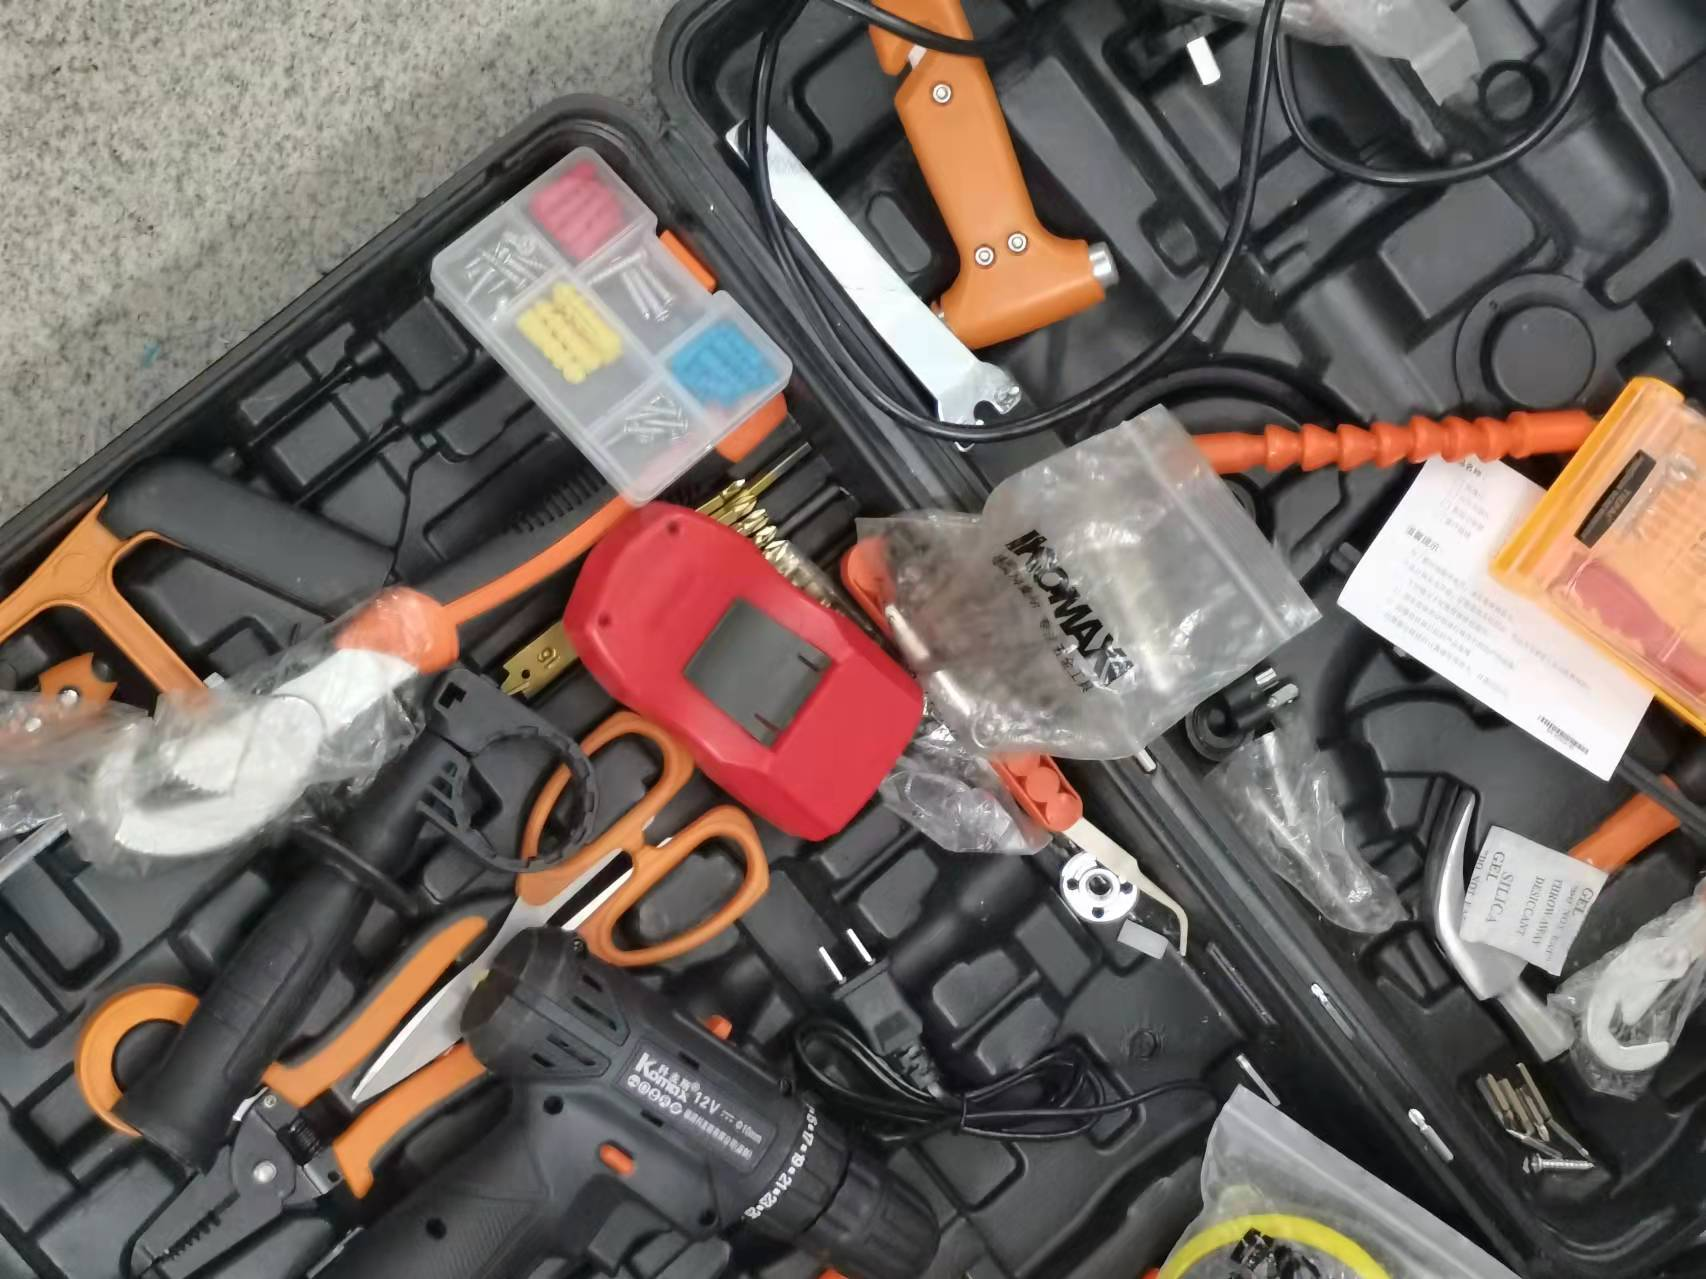Multimeter: (566, 498, 928, 842)
